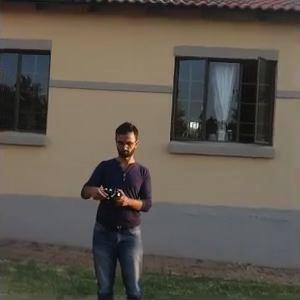follow: (76, 114, 156, 298)
